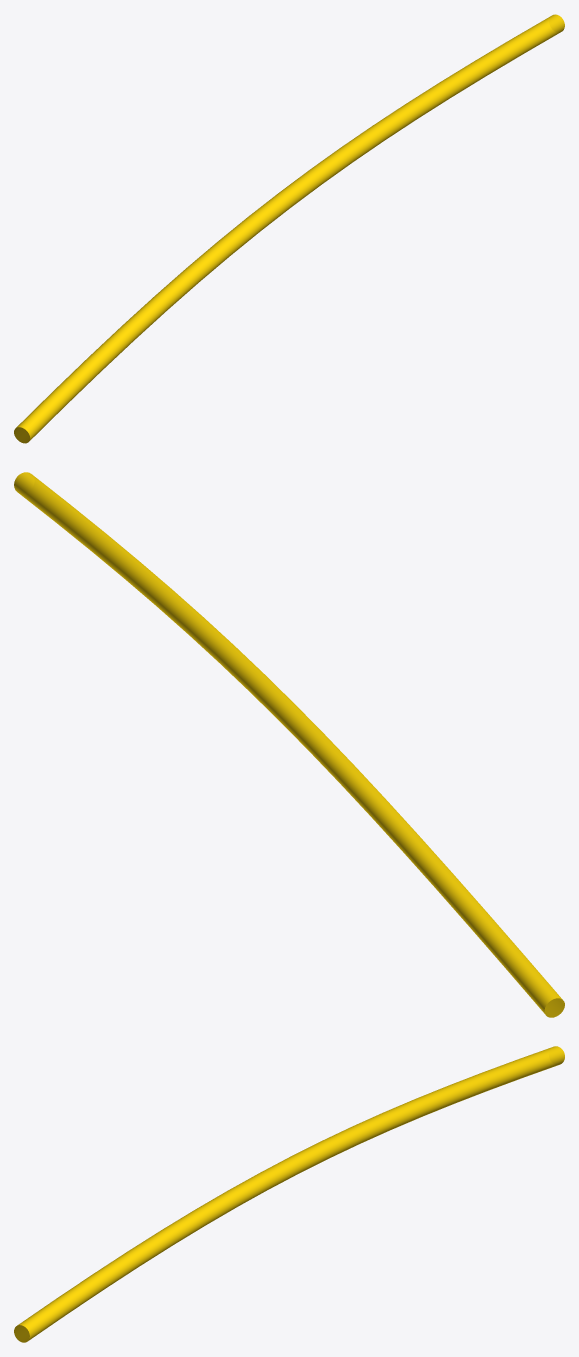
File: Event_421556567_track_33.fbx
3 views of the same model, one above another, from view 1: azimuth 90°, elevation 25°; view 2: azimuth 150°, elevation 25°; view 3: azimuth 270°, elevation 25° (orthographic). The views are drawn at different scales.
Parts seen in each view (by area): view 1: Model; view 2: Model; view 3: Model.
Boxes of the visible parts, x1,y1,x2,y2 form: Model: [14, 14, 564, 443]; Model: [14, 472, 564, 1017]; Model: [14, 1046, 564, 1342].
Size of the model in its own units: 1.73 by 0.2032 by 1.15.
